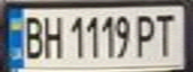1: (81, 11, 100, 58), (100, 11, 118, 58), (66, 11, 84, 58)
9: (112, 11, 136, 58)
B: (18, 11, 45, 60)
H: (39, 11, 66, 60)
P: (133, 10, 160, 58)
T: (151, 10, 181, 58)
